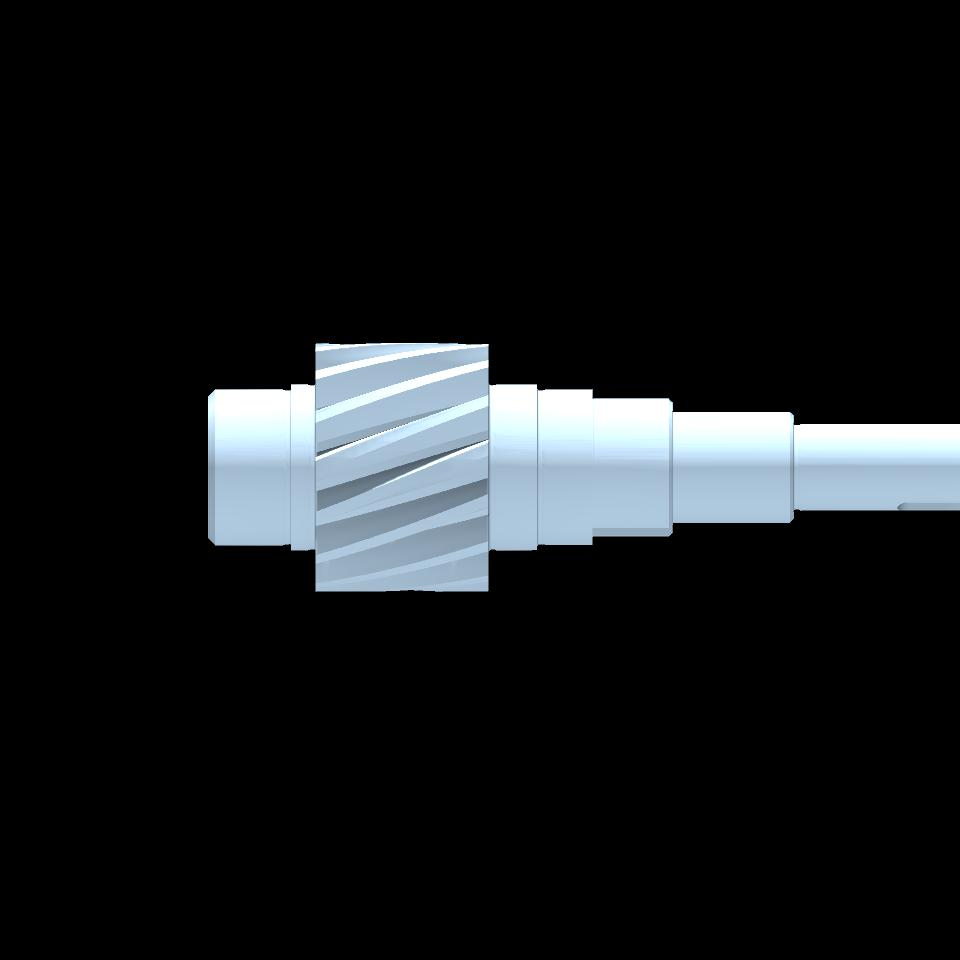Helical: (315, 343, 488, 592)
